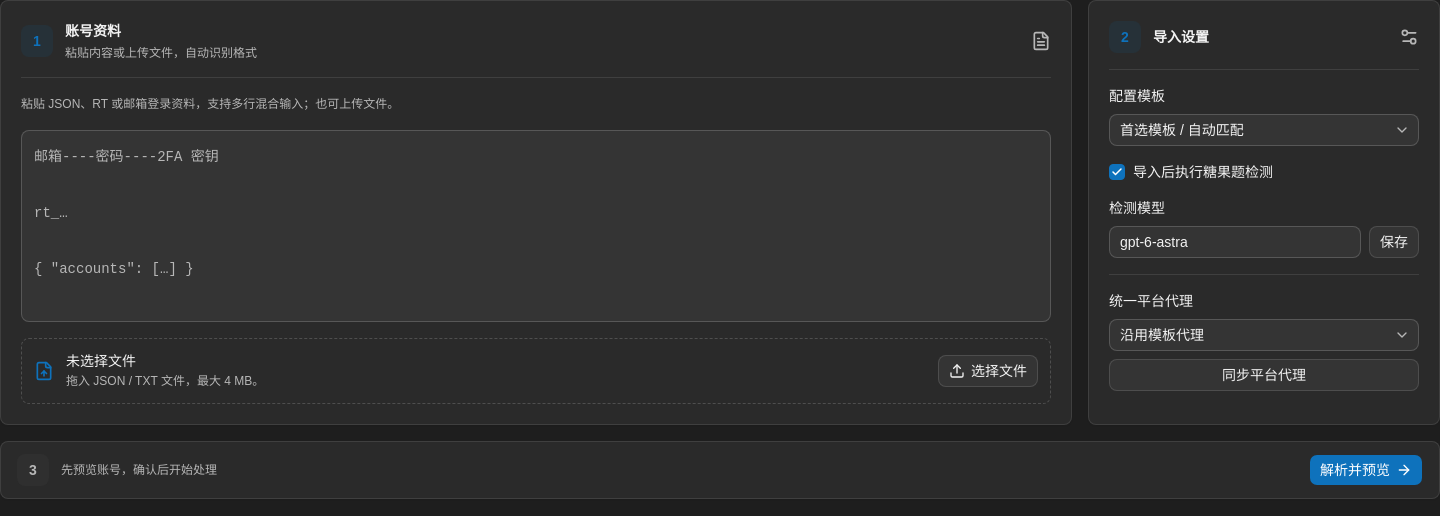
Test: 关闭糖果题检测禁用模型，重新开启保留已输入模型
Replace the text in the field labelled "检测模型" with "custom-model" at (1235, 242), box x1=1109 y1=226 x2=1361 y2=258
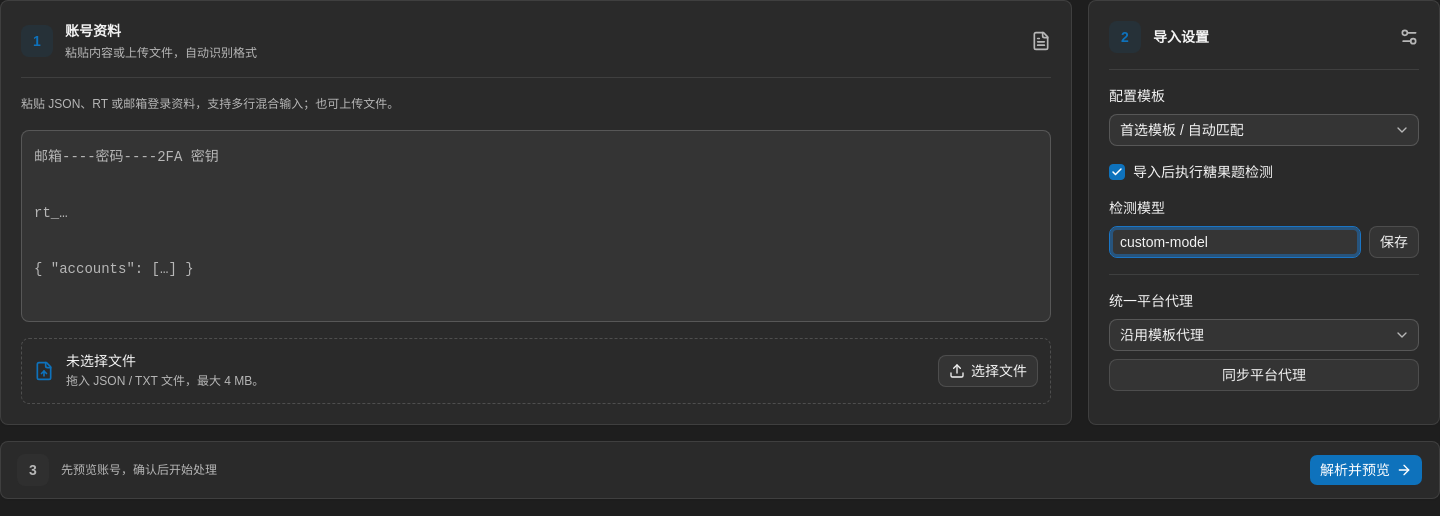
Click the checkbox named "导入后执行糖果题检测" at (1117, 172), box x1=1109 y1=164 x2=1125 y2=180
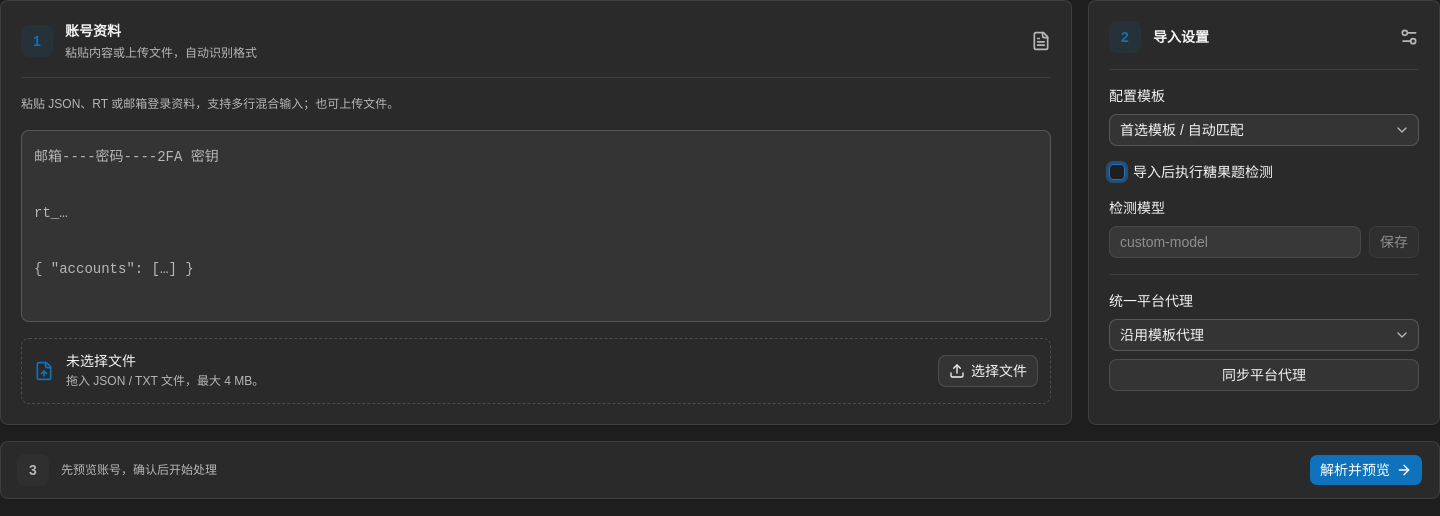
Expected: the checkbox named "导入后执行糖果题检测" is not checked
Expected: the field labelled "检测模型" is disabled, x1=1109 y1=226 x2=1361 y2=258
Click the checkbox named "导入后执行糖果题检测" at (1117, 172), box x1=1109 y1=164 x2=1125 y2=180
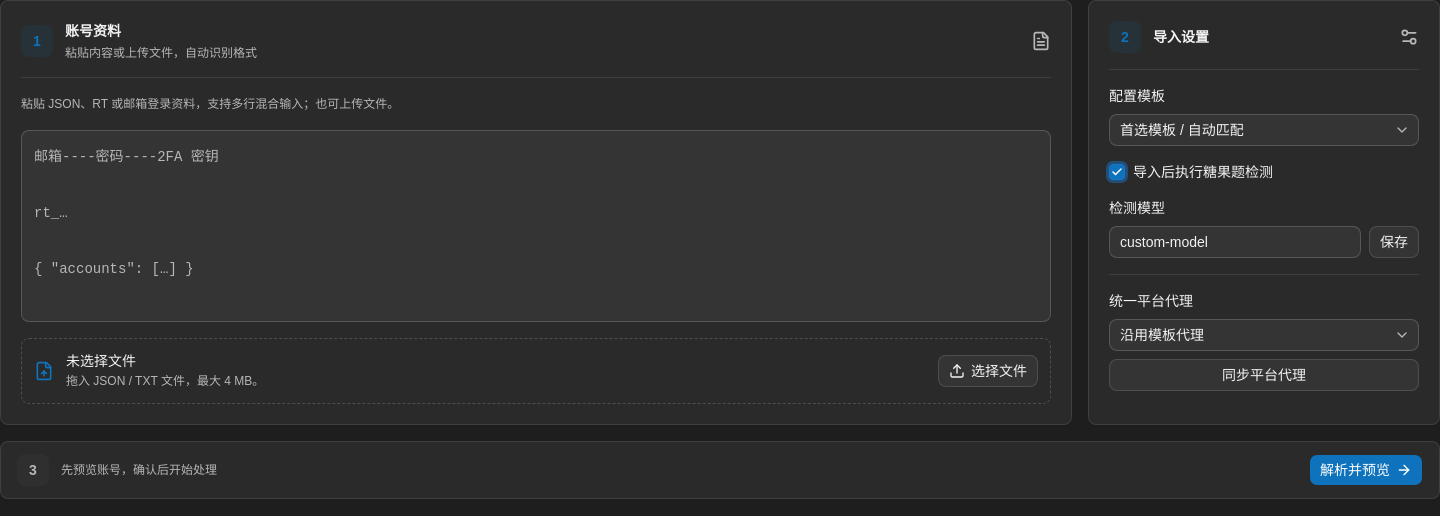
Expected: the field labelled "检测模型" is enabled, x1=1109 y1=226 x2=1361 y2=258
